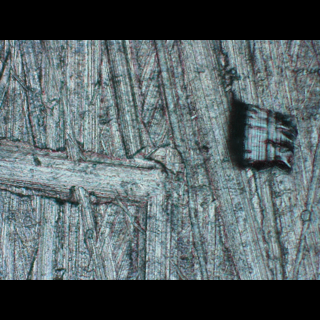d: (0, 136, 183, 215), (213, 87, 298, 179), (131, 155, 177, 279)
